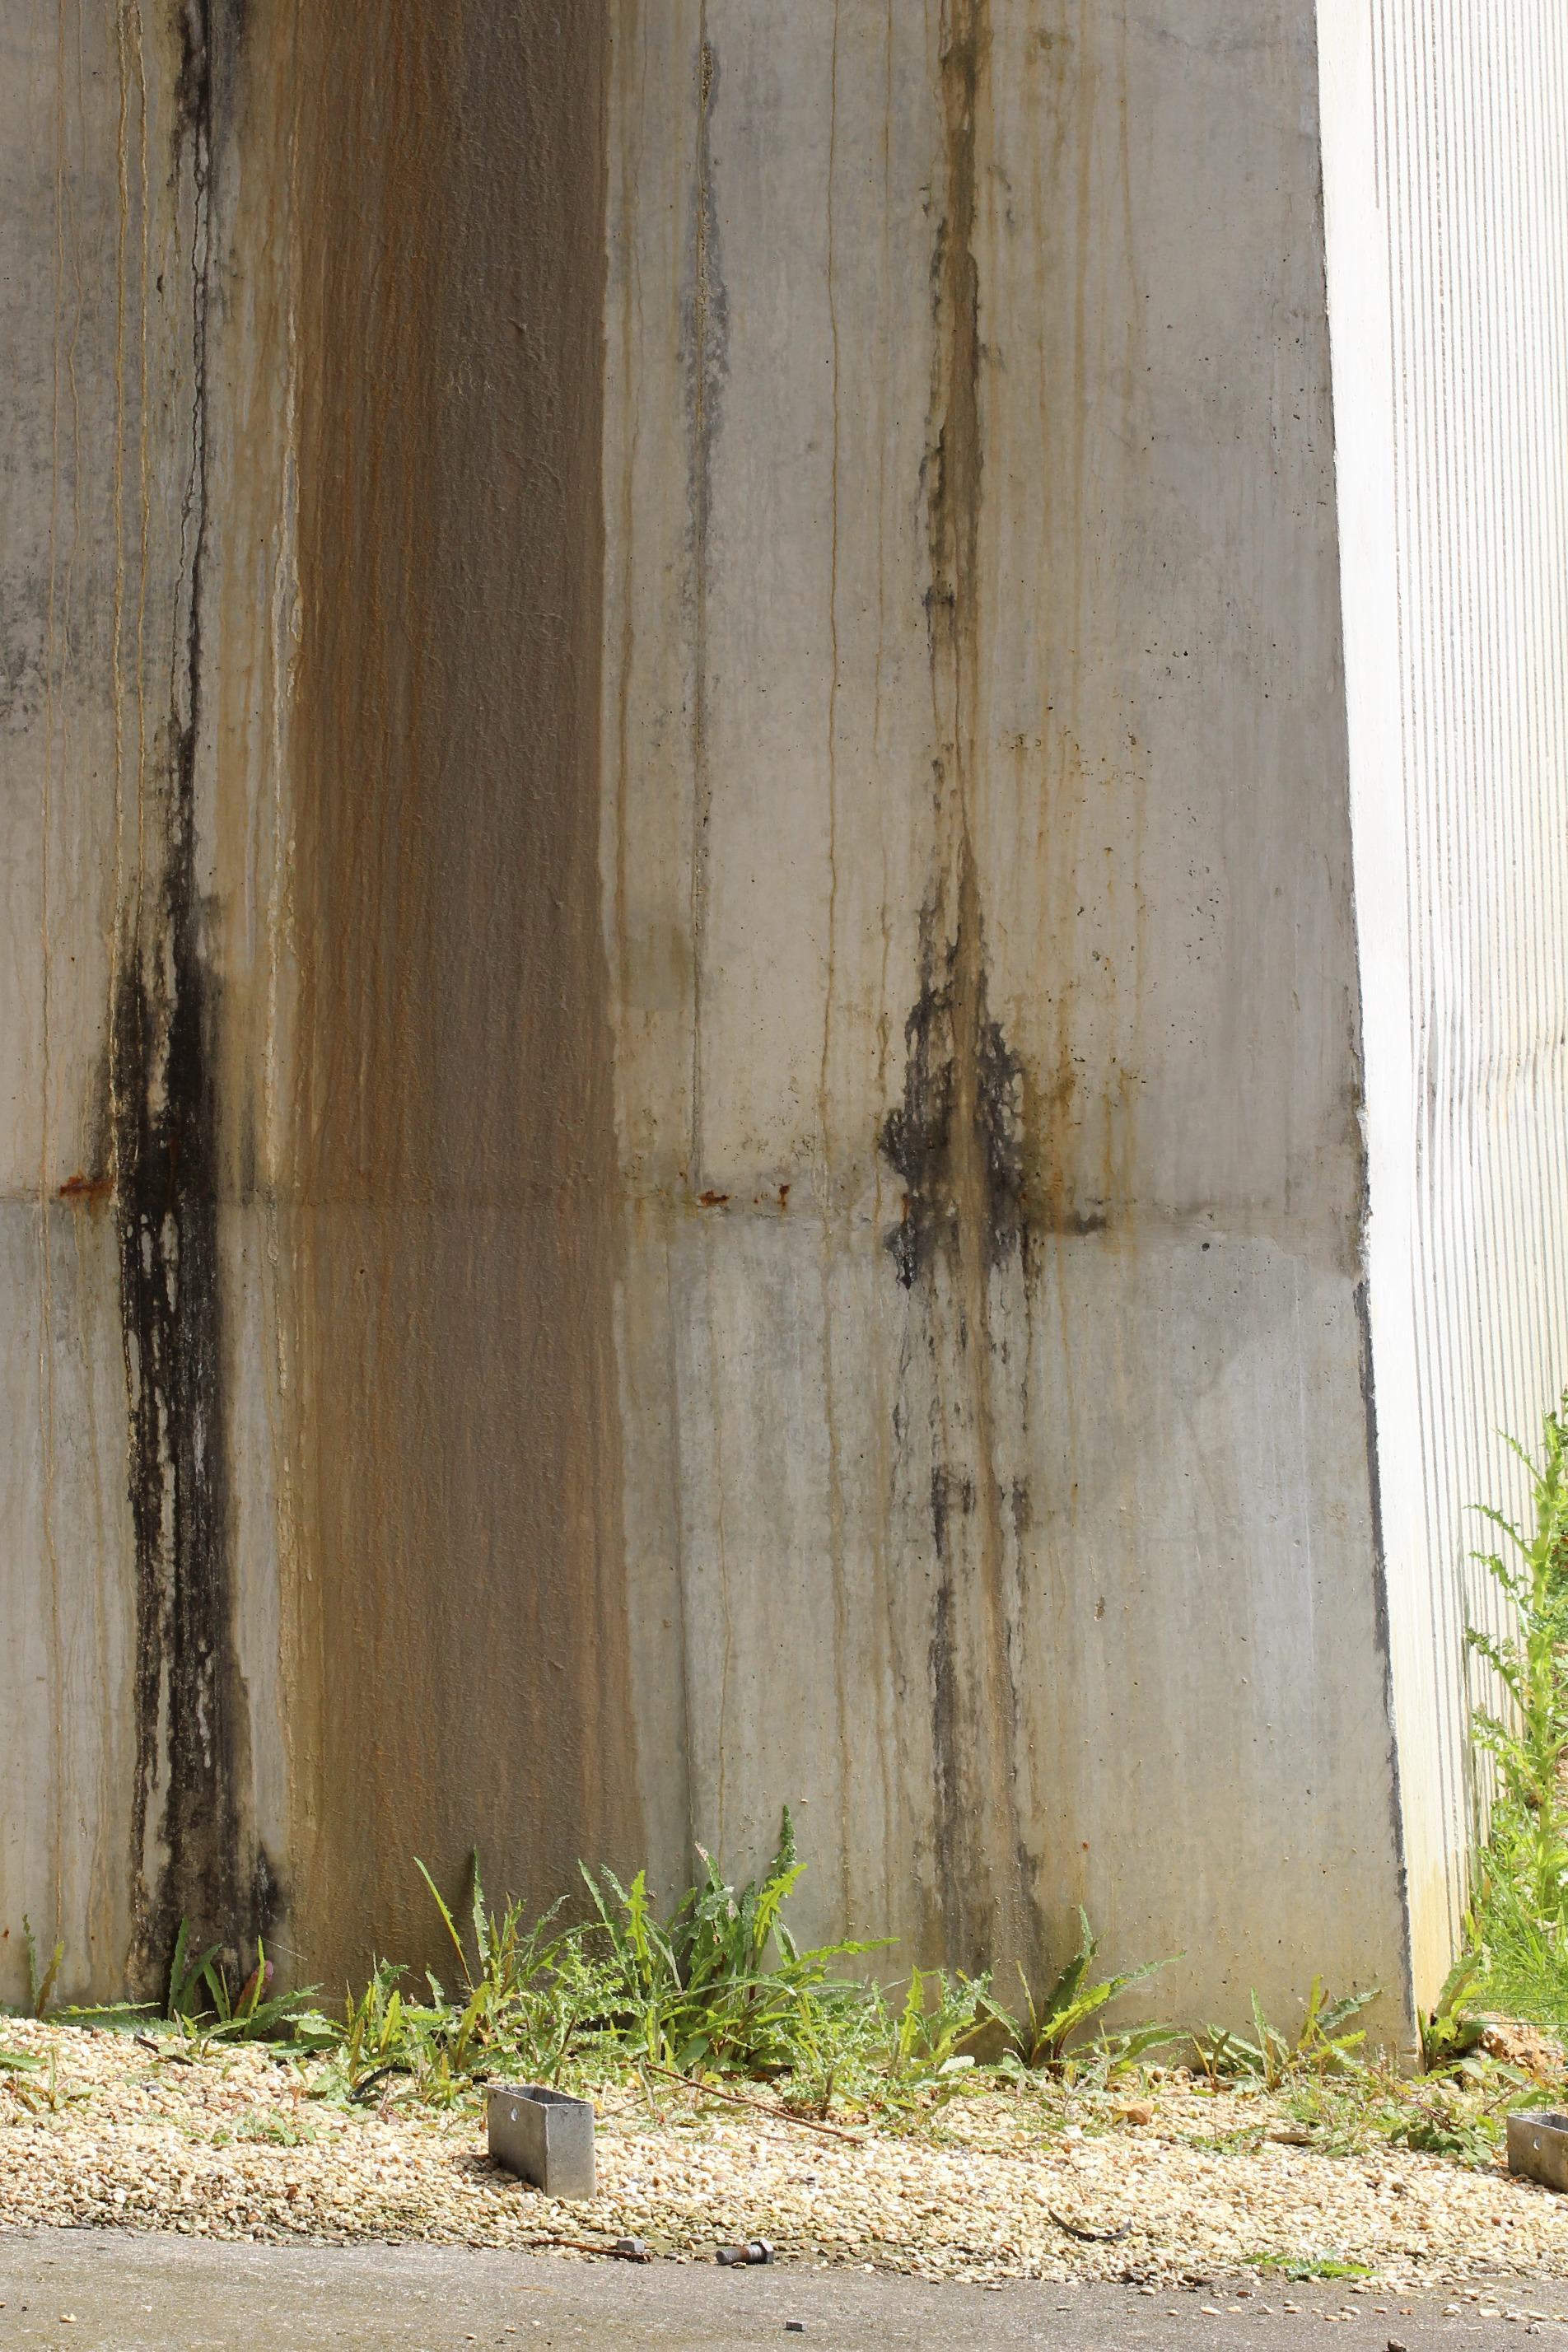Corrosion: (283, 0, 640, 1988), (871, 0, 1111, 1963), (89, 0, 283, 2012), (698, 1190, 730, 1209), (775, 1183, 791, 1211)
Spalling: (684, 0, 728, 1178)
